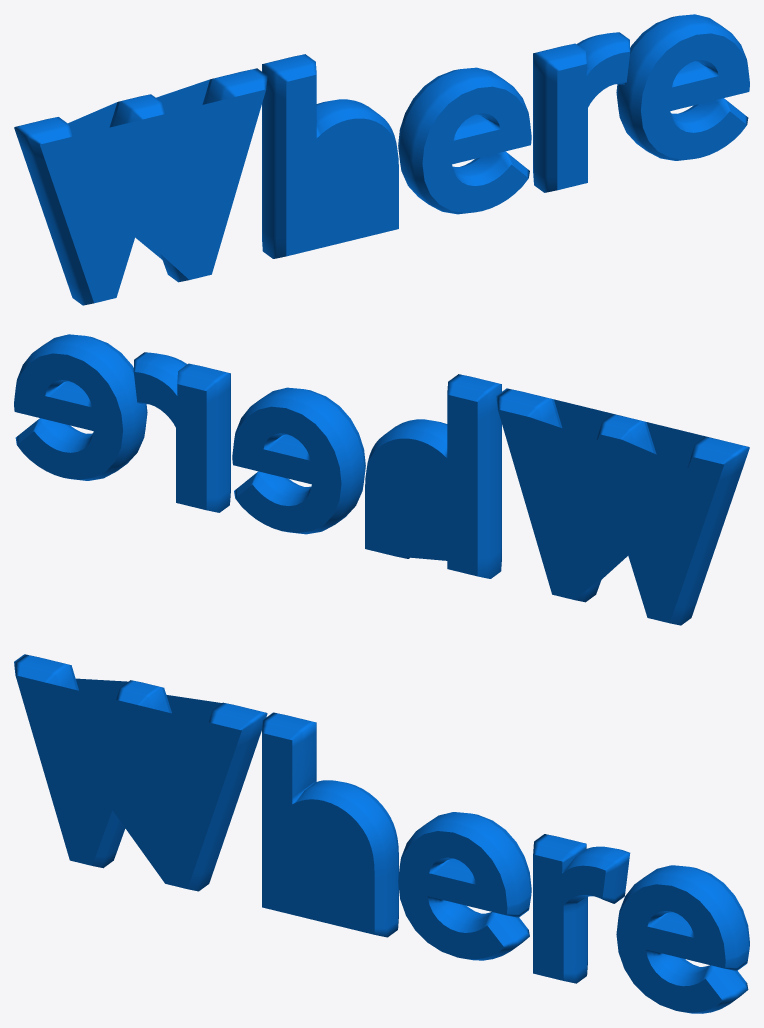
The model's file is Where.fbx.
3 views of the same model, one above another, from view 1: azimuth 30°, elevation 25°; view 2: azimuth 150°, elevation 25°; view 3: azimuth 330°, elevation 25° (orthographic).
Visible parts, largest first — view 1: bevelPolygon1, bevelPolygon2, bevelPolygon3, bevelPolygon5, bevelPolygon4; view 2: bevelPolygon1, bevelPolygon2, bevelPolygon3, bevelPolygon5, bevelPolygon4; view 3: bevelPolygon1, bevelPolygon2, bevelPolygon5, bevelPolygon3, bevelPolygon4.
Part boxes in pixels (bbox=[...]): bevelPolygon1: bbox=[14, 68, 267, 305]; bevelPolygon2: bbox=[262, 54, 398, 258]; bevelPolygon3: bbox=[398, 67, 531, 214]; bevelPolygon5: bbox=[616, 14, 749, 160]; bevelPolygon4: bbox=[533, 32, 630, 192]; bevelPolygon1: bbox=[496, 388, 749, 625]; bevelPolygon2: bbox=[365, 374, 501, 578]; bevelPolygon3: bbox=[232, 387, 365, 534]; bevelPolygon5: bbox=[14, 334, 147, 480]; bevelPolygon4: bbox=[133, 352, 230, 512]; bevelPolygon1: bbox=[14, 654, 267, 891]; bevelPolygon2: bbox=[262, 712, 398, 937]; bevelPolygon5: bbox=[616, 865, 749, 1013]; bevelPolygon3: bbox=[398, 812, 531, 960]; bevelPolygon4: bbox=[533, 834, 630, 983].
Bounding box in the file's own units: 12.03 × 3.01 × 0.7.
